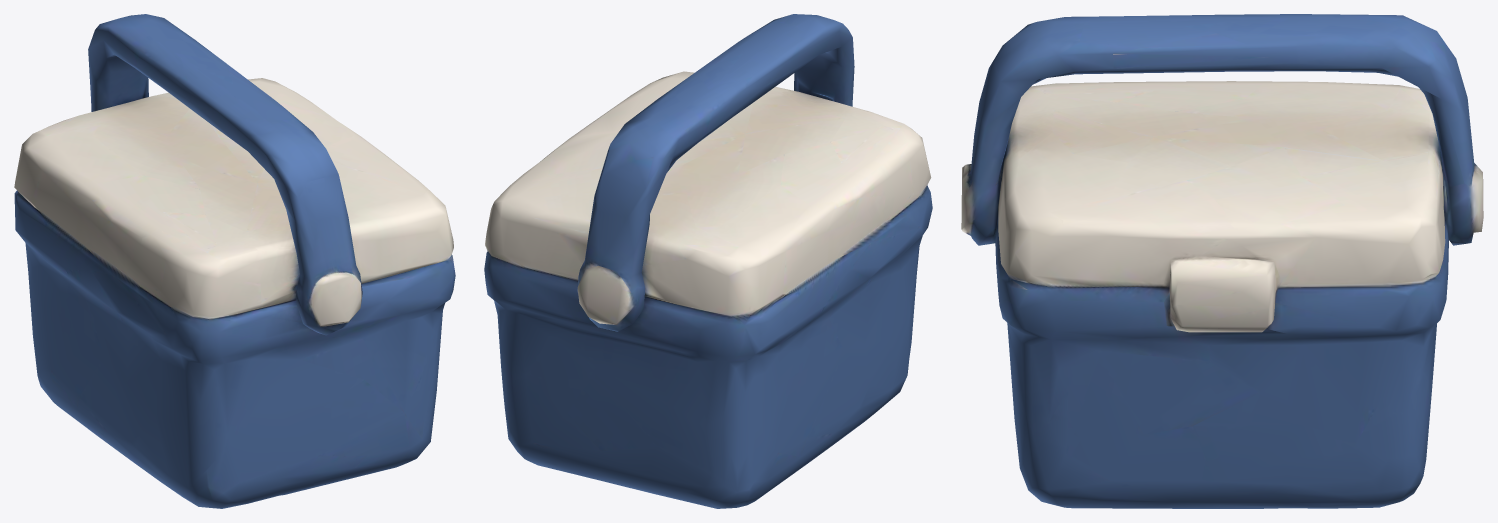
File: f-cooler.glb
3 renders of one model, left to right at view 1: azimuth 30°, elevation 25°; view 2: azimuth 150°, elevation 25°; view 3: azimuth 270°, elevation 25°, orthographic. The views are drawn at different scales.
Visible parts, largest first — view 1: tripo_node_76ebaa5a-00c9-435d-8b40-f5b050a0c0db; view 2: tripo_node_76ebaa5a-00c9-435d-8b40-f5b050a0c0db; view 3: tripo_node_76ebaa5a-00c9-435d-8b40-f5b050a0c0db.
Boxes of the visible parts, <box> form: tripo_node_76ebaa5a-00c9-435d-8b40-f5b050a0c0db: <box>14,14,455,508</box>; tripo_node_76ebaa5a-00c9-435d-8b40-f5b050a0c0db: <box>484,14,932,508</box>; tripo_node_76ebaa5a-00c9-435d-8b40-f5b050a0c0db: <box>961,14,1483,508</box>.
Size of the model in its own units: 0.7467 by 0.8872 by 1.
Materials: 1 (1 with a texture image).
